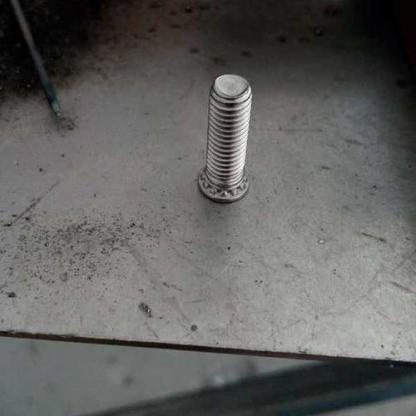FOD: (195, 72, 258, 206)
